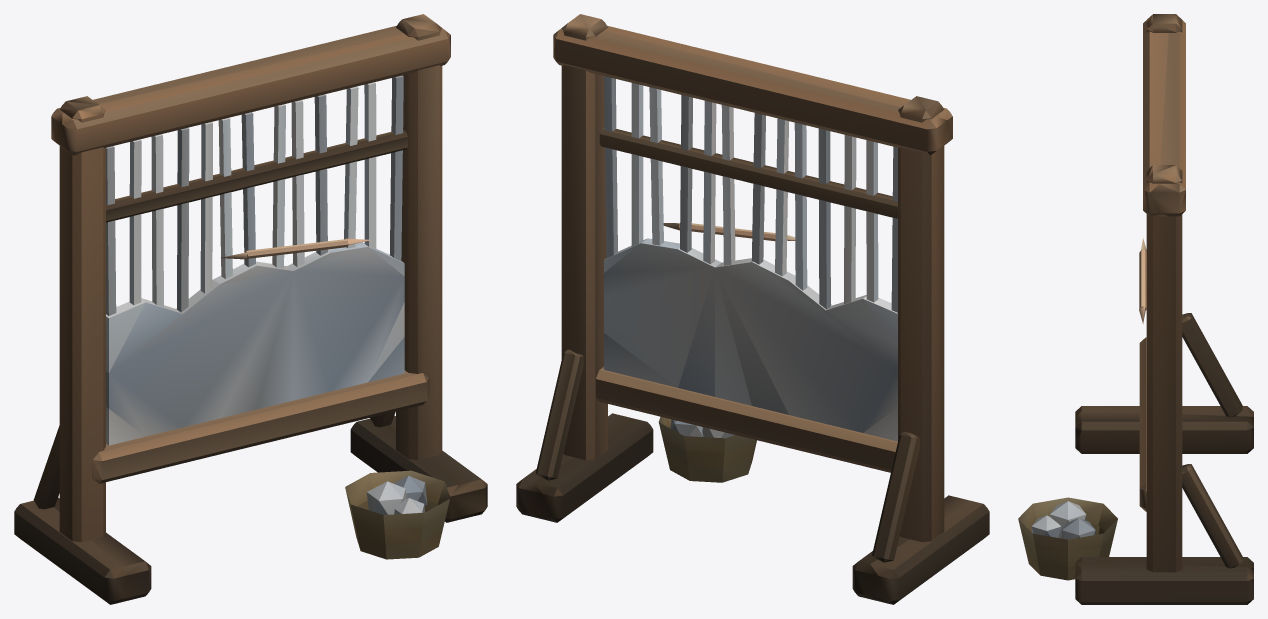
The model's file is loom.low.glb.
3 renders of one model, left to right at view 1: azimuth 30°, elevation 25°; view 2: azimuth 150°, elevation 25°; view 3: azimuth 270°, elevation 25°, orthographic. The views are drawn at different scales.
Parts seen in each view (by area): view 1: loom; view 2: loom; view 3: loom.
Boxes of the visible parts, x1,y1,x2,y2 form: loom: [14, 14, 487, 604]; loom: [516, 14, 989, 604]; loom: [1018, 14, 1253, 604].
Bounding box in the file's own units: 1.14 × 1.32 × 0.6601.
